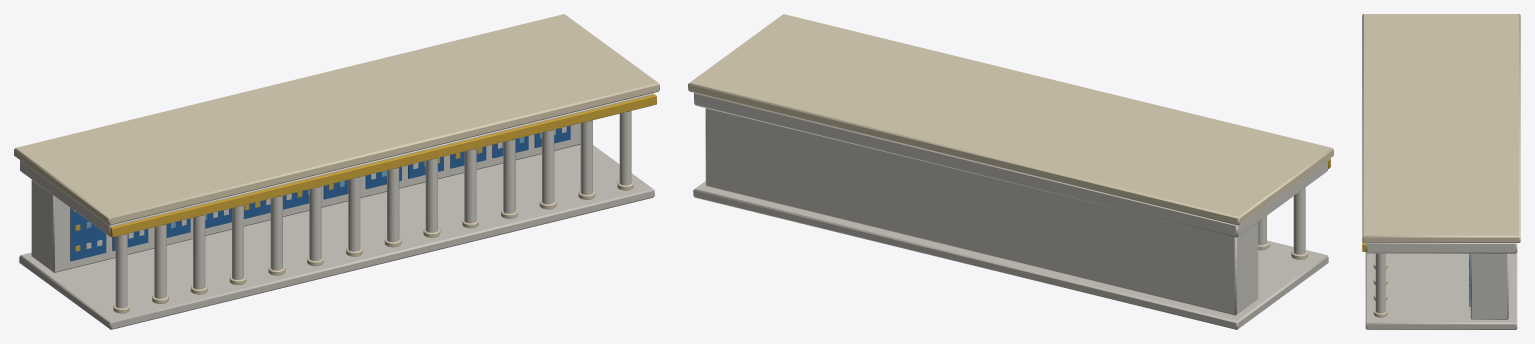
Rendered from 124_bains_pompeiens.fbx.
3 views of the same model, side by side, from view 1: azimuth 30°, elevation 25°; view 2: azimuth 150°, elevation 25°; view 3: azimuth 270°, elevation 25° (orthographic). The views are drawn at different scales.
Visible parts, largest first — view 1: Toit, Colonnes, Mosaiques; view 2: Toit, Colonnes; view 3: Toit, Colonnes.
Part boxes in pixels (<box>): Toit: <box>14,14,659,237</box>; Colonnes: <box>19,111,654,329</box>; Mosaiques: <box>70,125,570,261</box>; Toit: <box>688,14,1333,237</box>; Colonnes: <box>693,108,1328,329</box>; Toit: <box>1362,14,1520,253</box>; Colonnes: <box>1365,252,1517,329</box>.
Bounding box in the file's own units: 11.2 × 2.24 × 3.36.
1 material, 1 textured.
